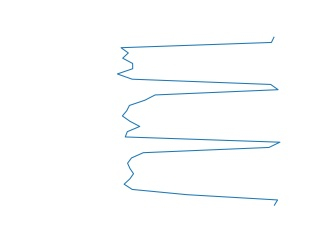majorRiverChannelBar: (116, 36, 285, 206)
